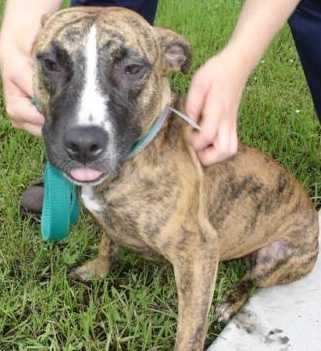Dog: (22, 6, 318, 350)
